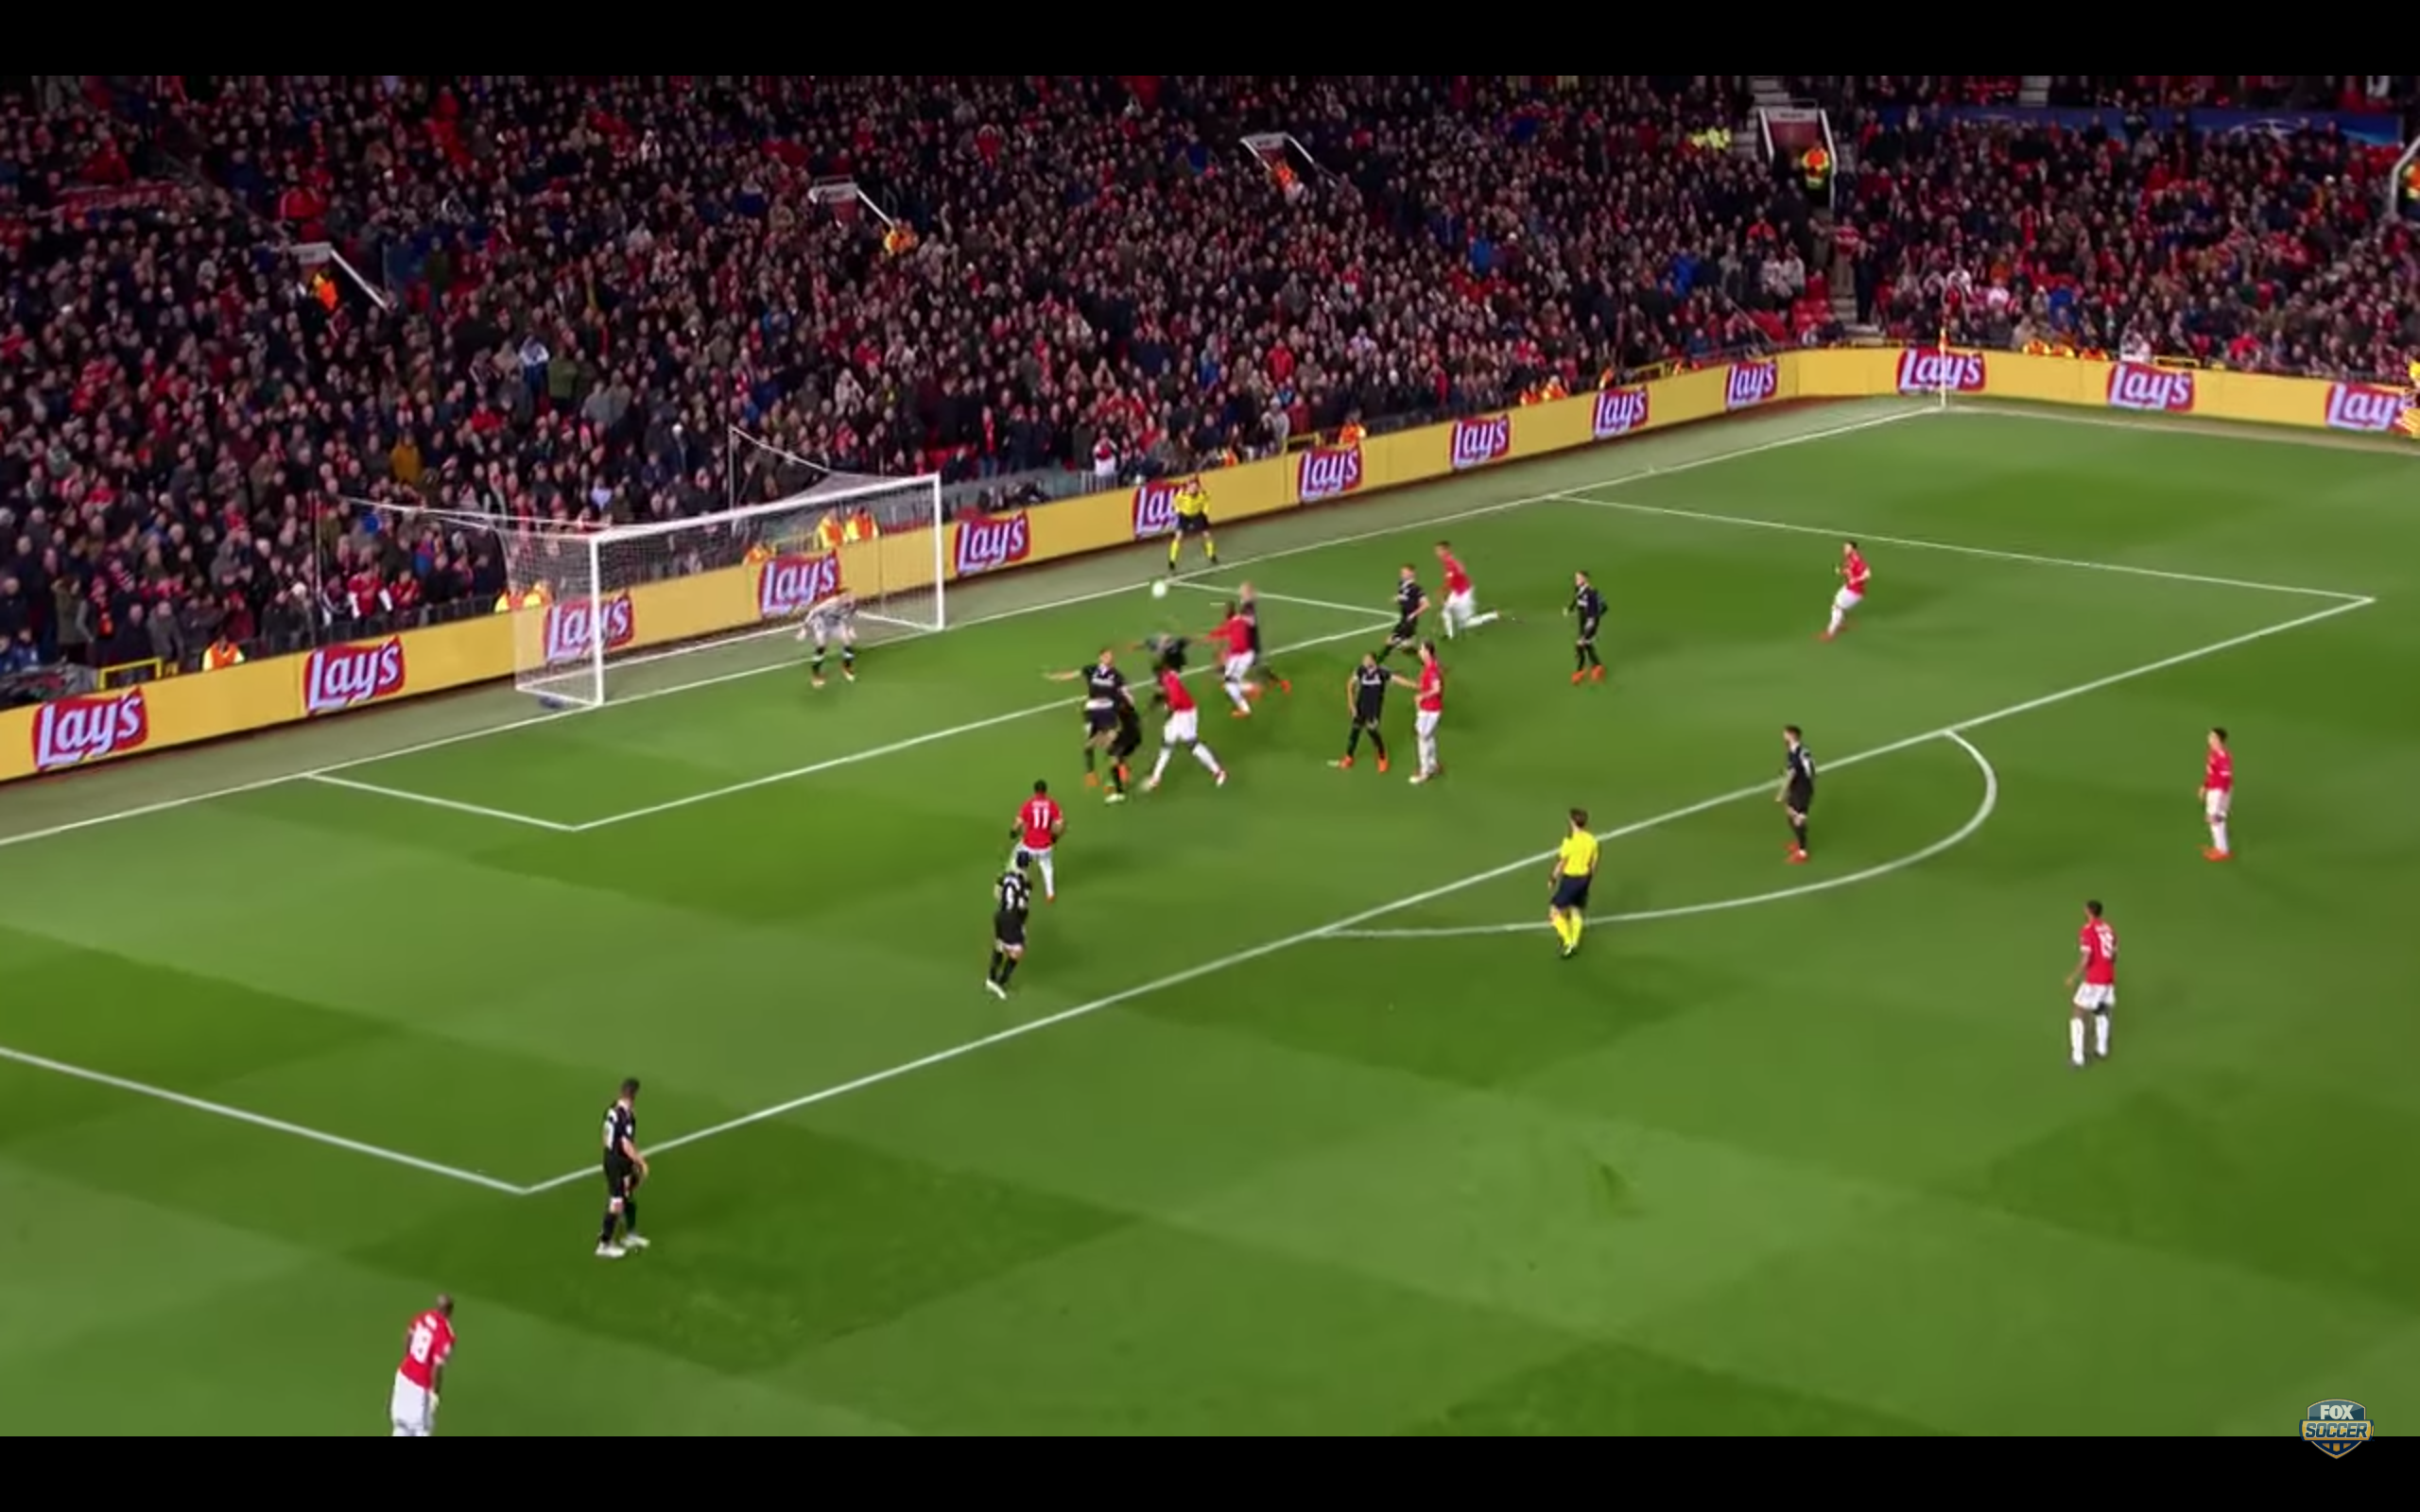referee: (1537, 803, 1612, 965), (1153, 474, 1231, 576)
soccer ball: (1141, 576, 1176, 605)
soccer player: (2052, 889, 2125, 1071), (590, 1073, 658, 1269), (1055, 635, 1132, 798), (1145, 662, 1231, 797), (783, 578, 878, 697), (387, 1289, 462, 1435), (1422, 531, 1524, 638), (1329, 641, 1405, 776), (1757, 723, 1825, 869), (1400, 635, 1462, 789), (2188, 716, 2244, 868), (985, 849, 1039, 1002), (1192, 609, 1264, 722), (1236, 587, 1294, 707), (1816, 541, 1877, 649), (1561, 567, 1616, 685), (1008, 778, 1066, 861), (1377, 555, 1425, 643)
